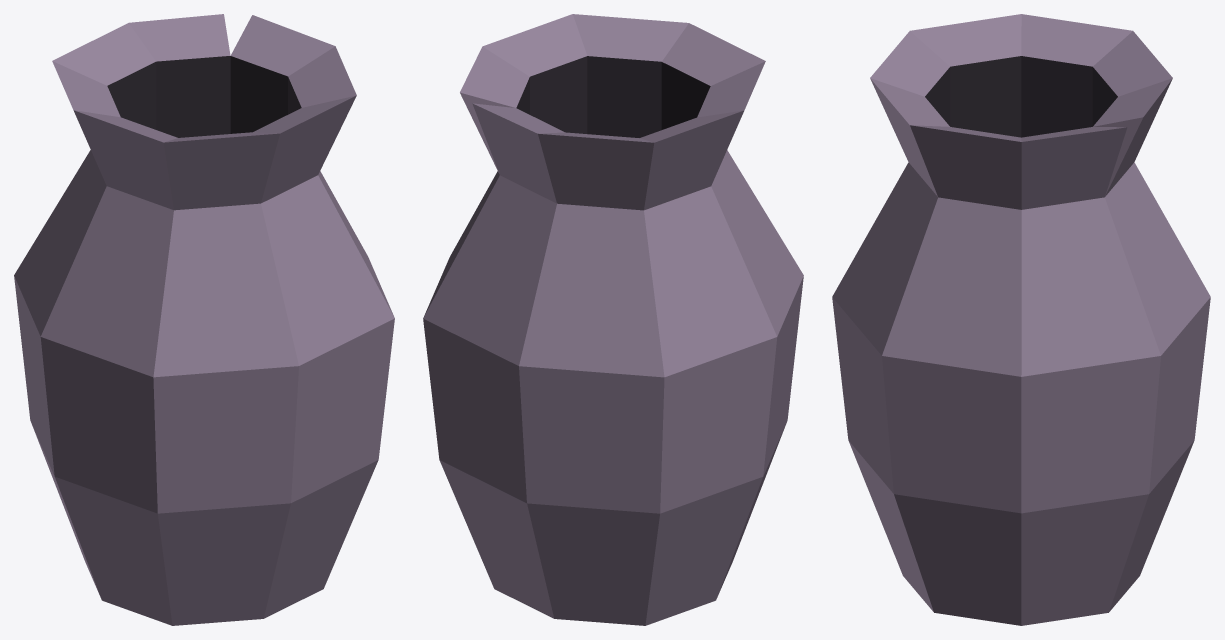
The model's file is Vase.fbx.
3 renders of one model, left to right at view 1: azimuth 30°, elevation 25°; view 2: azimuth 150°, elevation 25°; view 3: azimuth 270°, elevation 25°, orthographic.
Visible parts, largest first — view 1: Vase; view 2: Vase; view 3: Vase.
Part boxes in pixels (x1=…): Vase: x1=14, y1=14, x2=394, y2=625; Vase: x1=423, y1=14, x2=803, y2=625; Vase: x1=832, y1=14, x2=1210, y2=625.
Size of the model in its own units: 135 by 196 by 135.
Materials: 1 (1 with a texture image).
